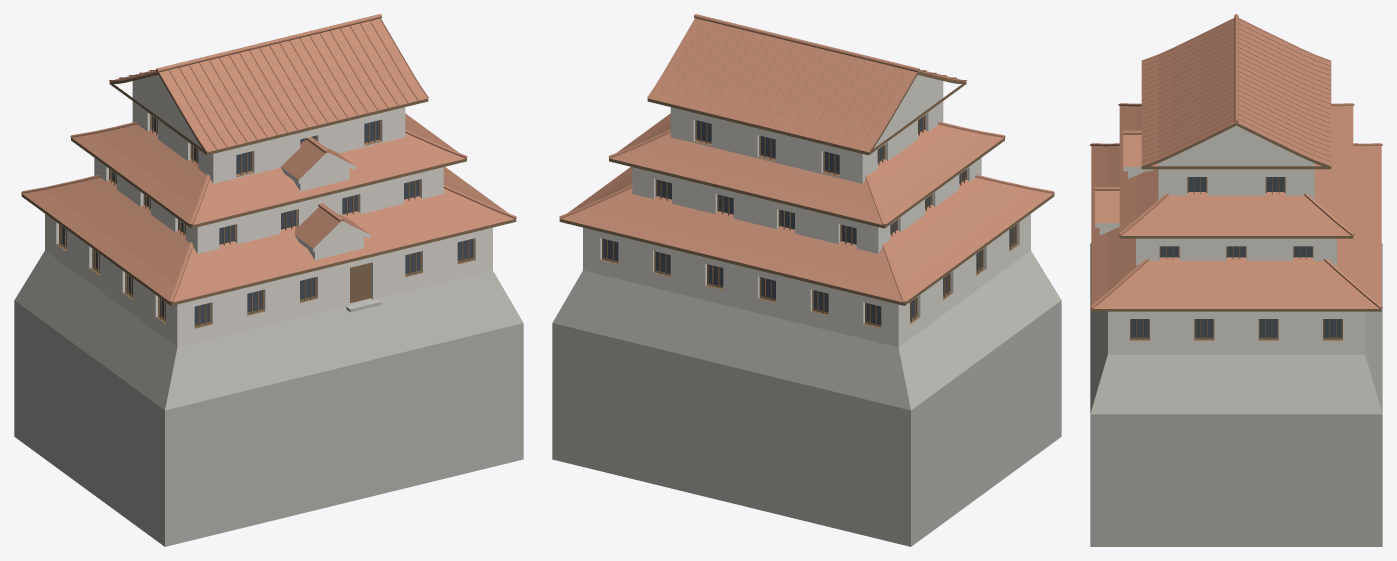
The model's file is japanese_castle_3_m.glb.
3 renders of one model, left to right at view 1: azimuth 30°, elevation 25°; view 2: azimuth 150°, elevation 25°; view 3: azimuth 270°, elevation 25°, orthographic. The views are drawn at different scales.
Parts seen in each view (by area): view 1: japanese_castle_3_m; view 2: japanese_castle_3_m; view 3: japanese_castle_3_m.
Part boxes in pixels (bbox=[...]): japanese_castle_3_m: bbox=[14, 14, 523, 546]; japanese_castle_3_m: bbox=[552, 14, 1061, 546]; japanese_castle_3_m: bbox=[1090, 14, 1382, 546].
Size of the model in its own units: 22 by 23.85 by 16.03.
